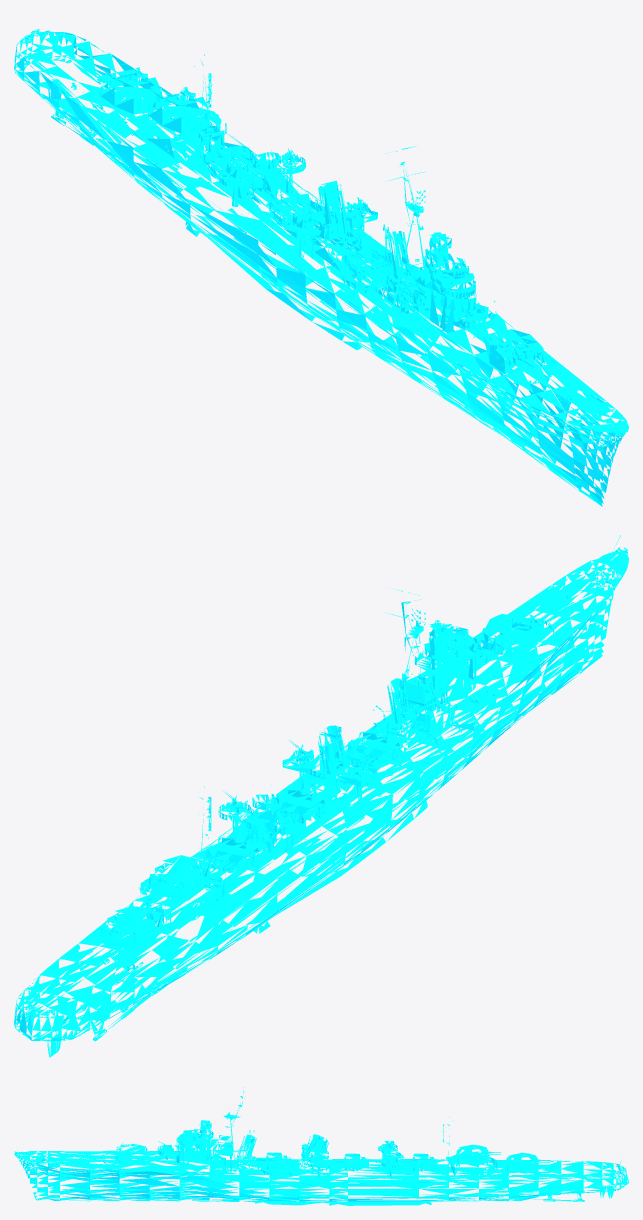
Rendered from PJSD891.glb.
3 renders of one model, top to bottom at view 1: azimuth 30°, elevation 25°; view 2: azimuth 150°, elevation 25°; view 3: azimuth 270°, elevation 25°, orthographic. The views are drawn at different scales.
Parts seen in each view (by area): view 1: hull, turret; view 2: hull, turret; view 3: hull, turret.
Part boxes in pixels (x1=…): hull: x1=14, y1=29, x2=628, y2=506; turret: x1=100, y1=67, x2=544, y2=374; hull: x1=14, y1=535, x2=628, y2=1057; turret: x1=100, y1=609, x2=544, y2=951; hull: x1=14, y1=1087, x2=628, y2=1205; turret: x1=103, y1=1143, x2=550, y2=1173.
Bounding box in the file's own units: 0.8671 × 1.96 × 9.93.
